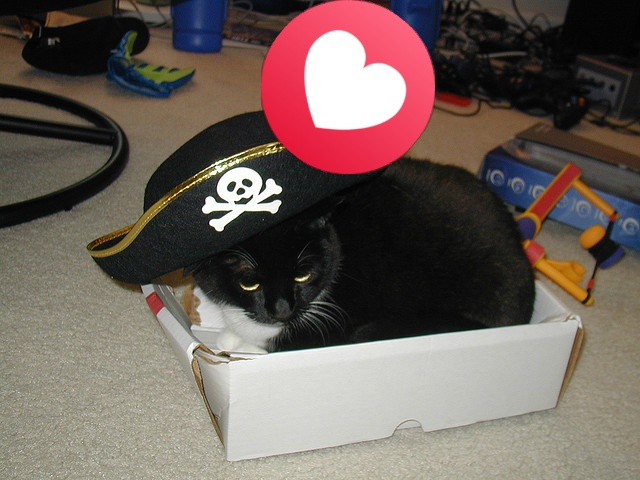love: (261, 0, 435, 174)
